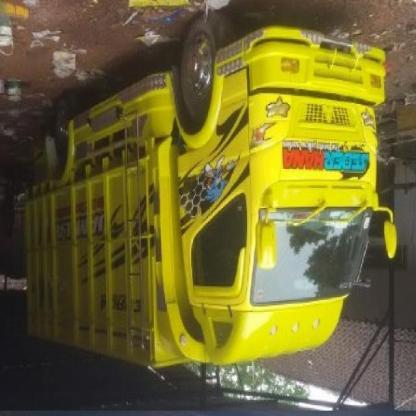truck: (28, 13, 399, 374)
